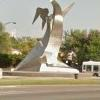Statue: (26, 3, 74, 70)
